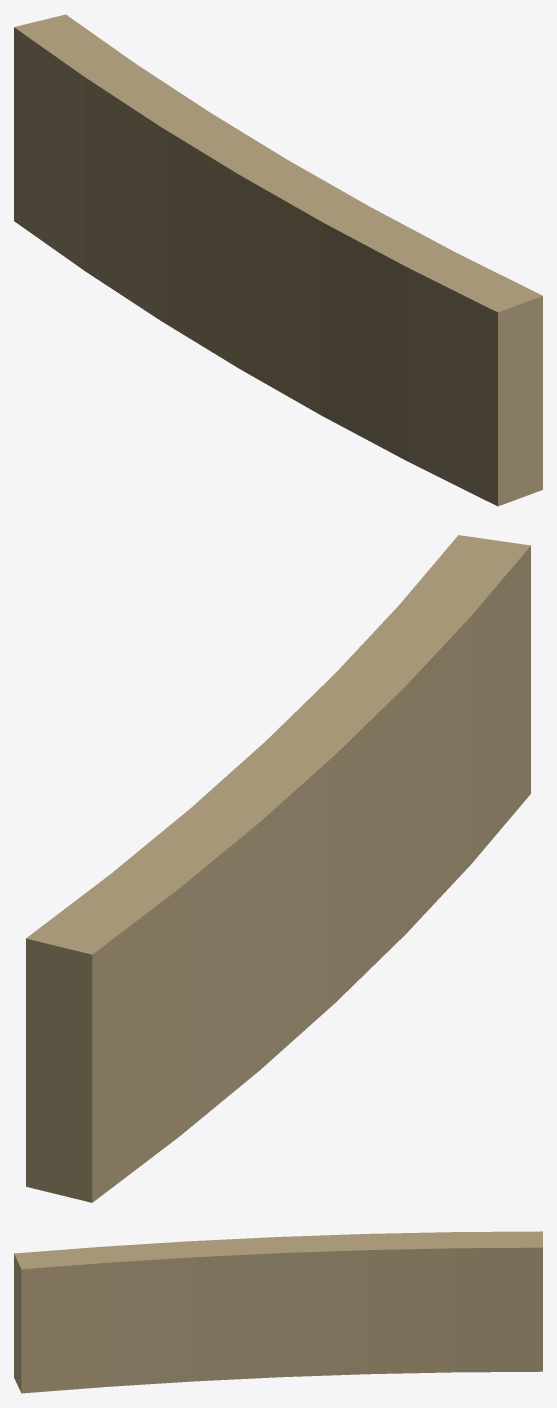
Rendered from road_curve_guarded_left_11_25_collision_2.fbx.
3 renders of one model, top to bottom at view 1: azimuth 30°, elevation 25°; view 2: azimuth 150°, elevation 25°; view 3: azimuth 270°, elevation 25°, orthographic. The views are drawn at different scales.
Parts seen in each view (by area): view 1: Parapet collider.002; view 2: Parapet collider.002; view 3: Parapet collider.002.
Boxes of the visible parts, x1,y1,x2,y2 form: Parapet collider.002: (14, 14, 542, 506); Parapet collider.002: (26, 535, 530, 1202); Parapet collider.002: (14, 1231, 542, 1393).
Size of the model in its own units: 6551 by 38628 by 10000.
